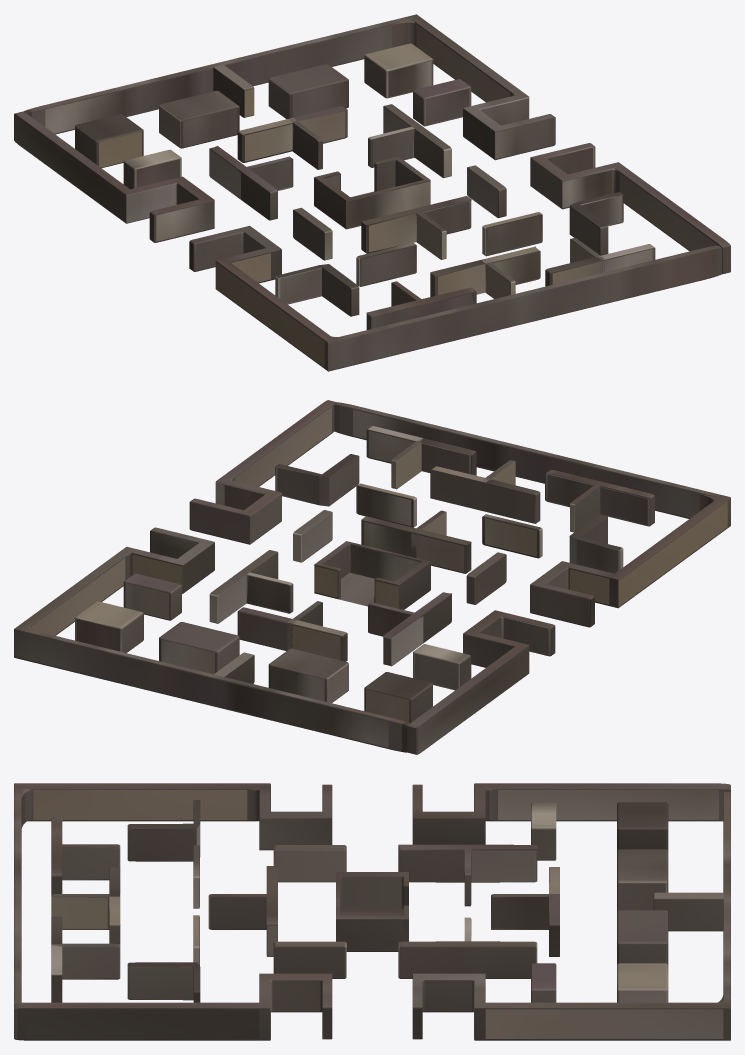
File: PacmanMaze.fbx
3 views of the same model, one above another, from view 1: azimuth 30°, elevation 25°; view 2: azimuth 150°, elevation 25°; view 3: azimuth 270°, elevation 25° (orthographic). The views are drawn at different scales.
Parts seen in each view (by area): view 1: Cube.012; view 2: Cube.012; view 3: Cube.012.
Boxes of the visible parts, x1,y1,x2,y2 form: Cube.012: (14,14,730,371); Cube.012: (14,400,730,754); Cube.012: (14,783,730,1040).
Bounding box in the file's own units: 4352 × 300 × 5877.
